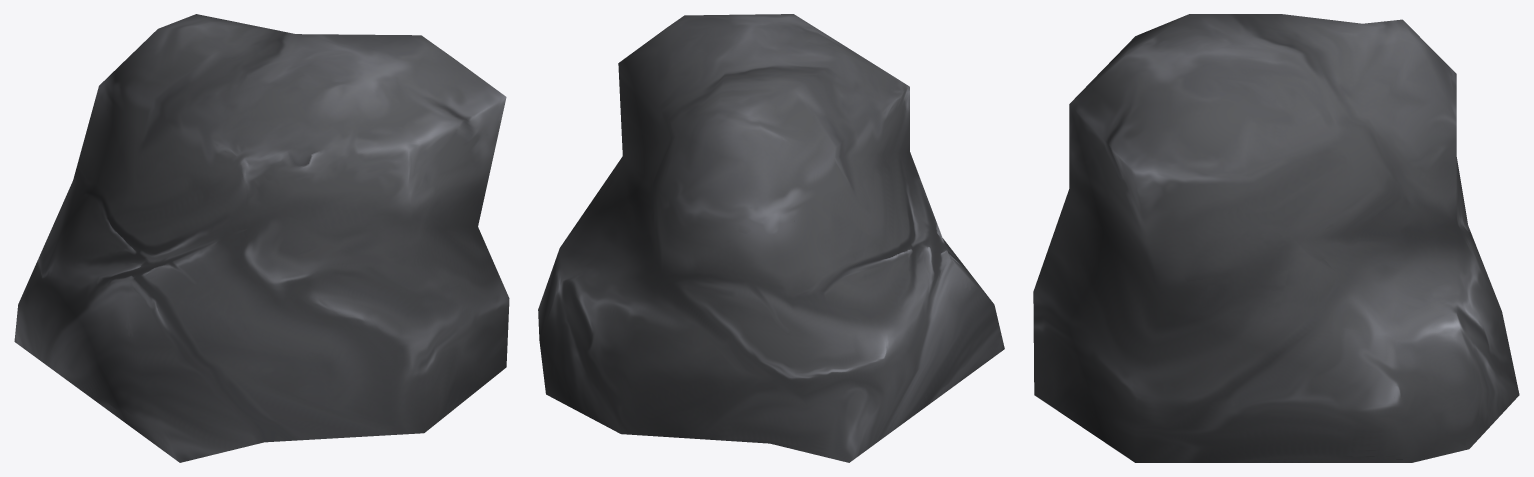
Rendered from pedra-1.fbx.
3 renders of one model, left to right at view 1: azimuth 30°, elevation 25°; view 2: azimuth 150°, elevation 25°; view 3: azimuth 270°, elevation 25°, orthographic. The views are drawn at different scales.
Visible parts, largest first — view 1: pedra-1; view 2: pedra-1; view 3: pedra-1.
Part boxes in pixels (x1,y1,x2,y2): pedra-1: [14, 14, 509, 462]; pedra-1: [538, 14, 1004, 462]; pedra-1: [1033, 14, 1519, 462].
Size of the model in its own units: 251 by 210 by 267.
